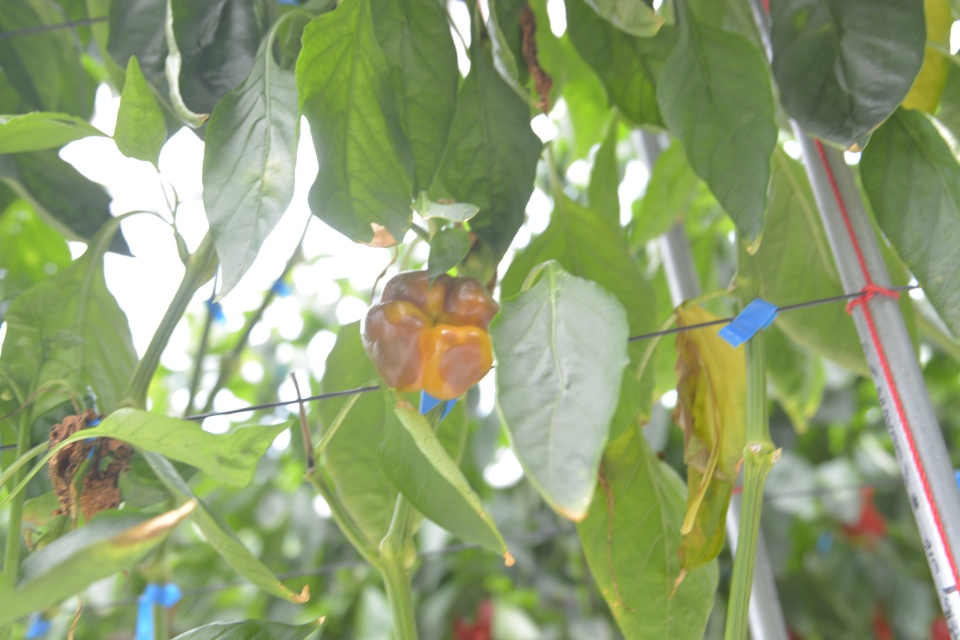fruit: (357, 268, 501, 402)
